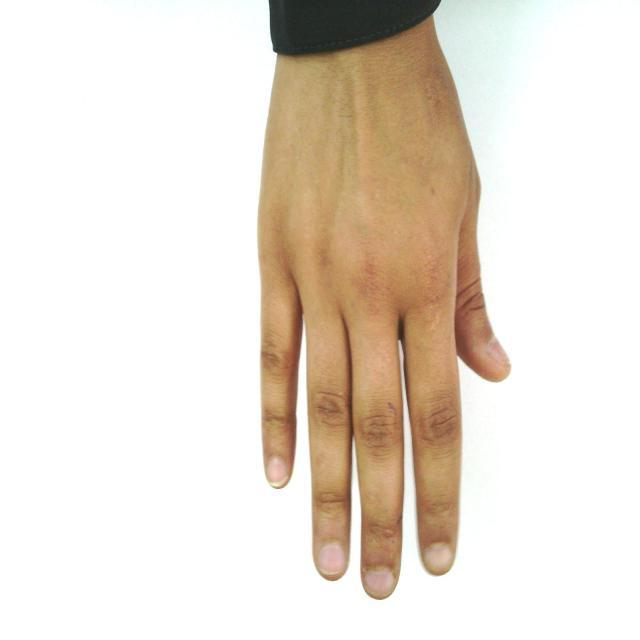Fingernail: (425, 543, 452, 573), (320, 544, 345, 576), (367, 571, 394, 597), (489, 340, 510, 367), (268, 459, 287, 485)
